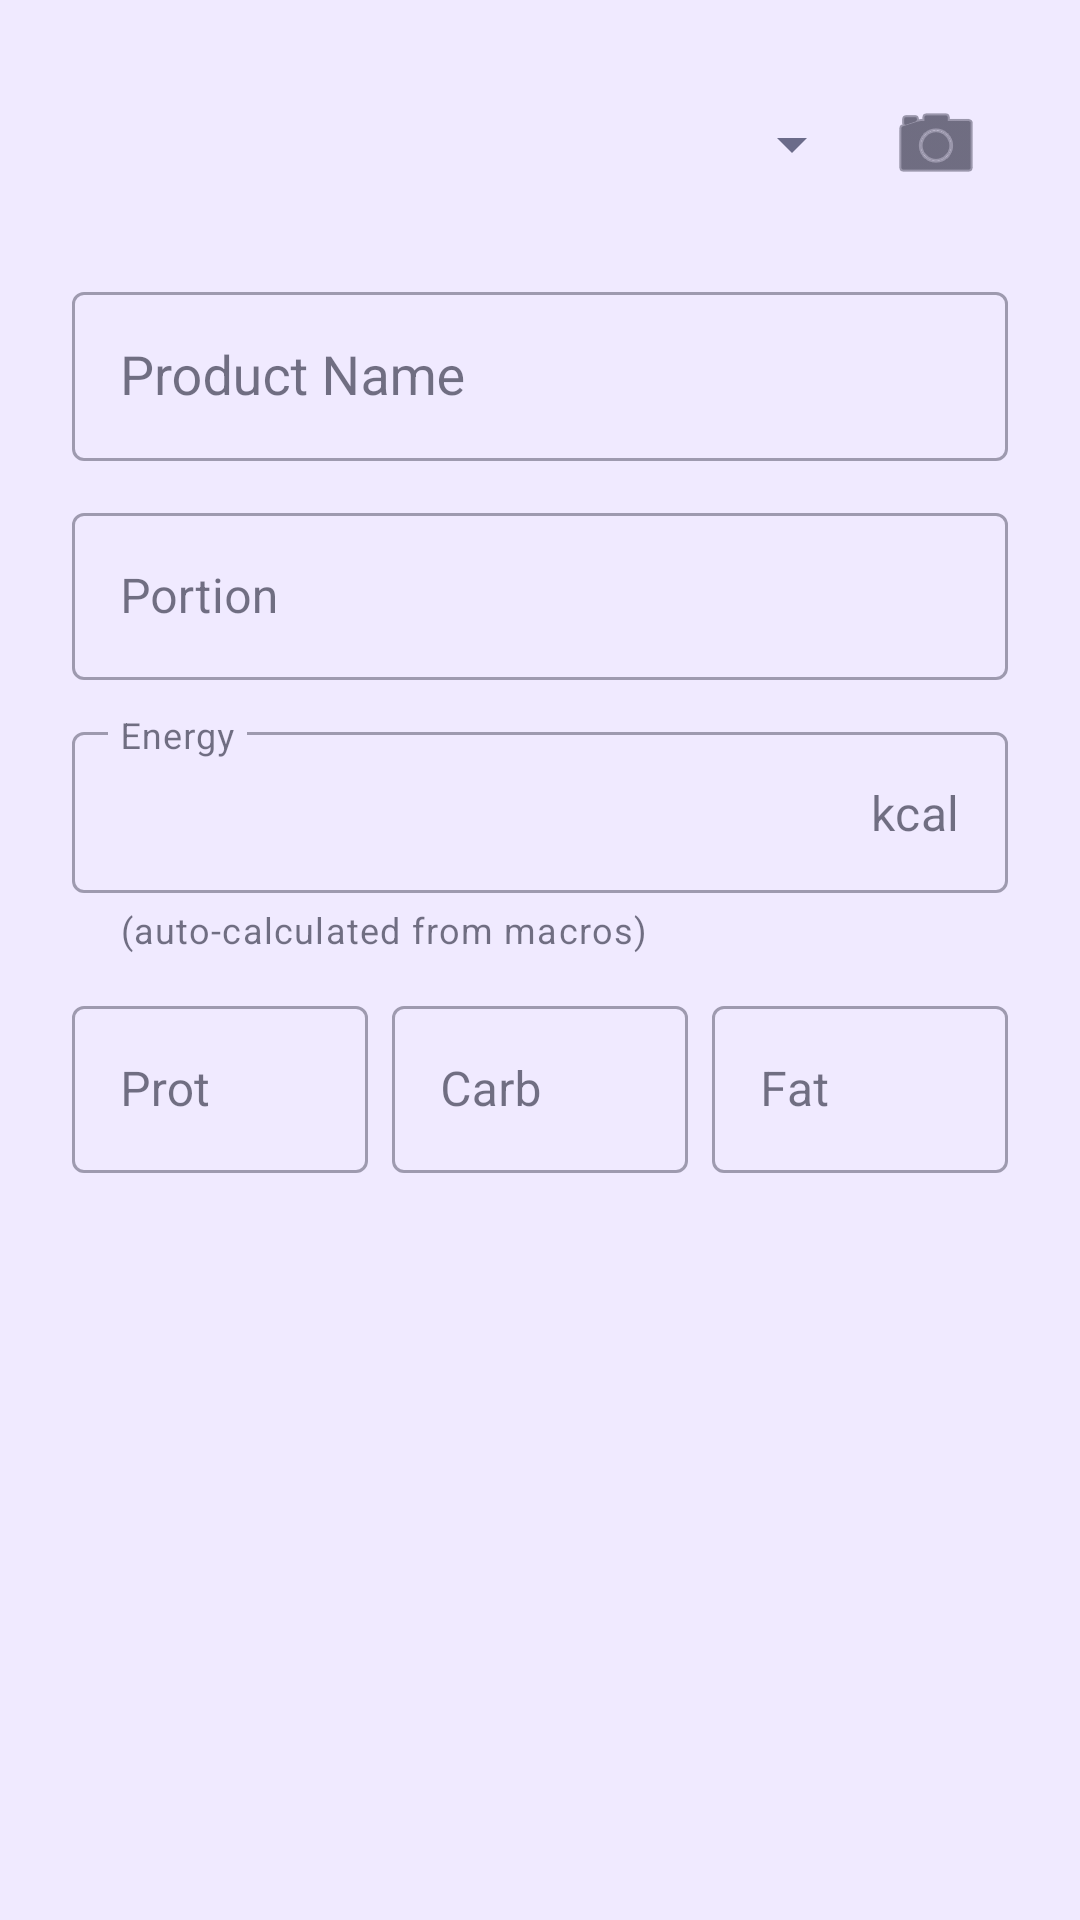

Icons on this 1080*1920 Android screen, each with the point to tap as point (x, y):
Scan Barcode: point (936, 142)
